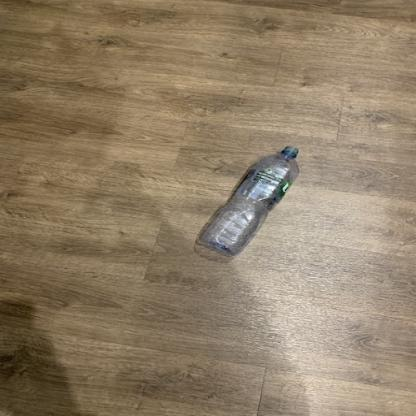trash: (196, 145, 301, 260)
